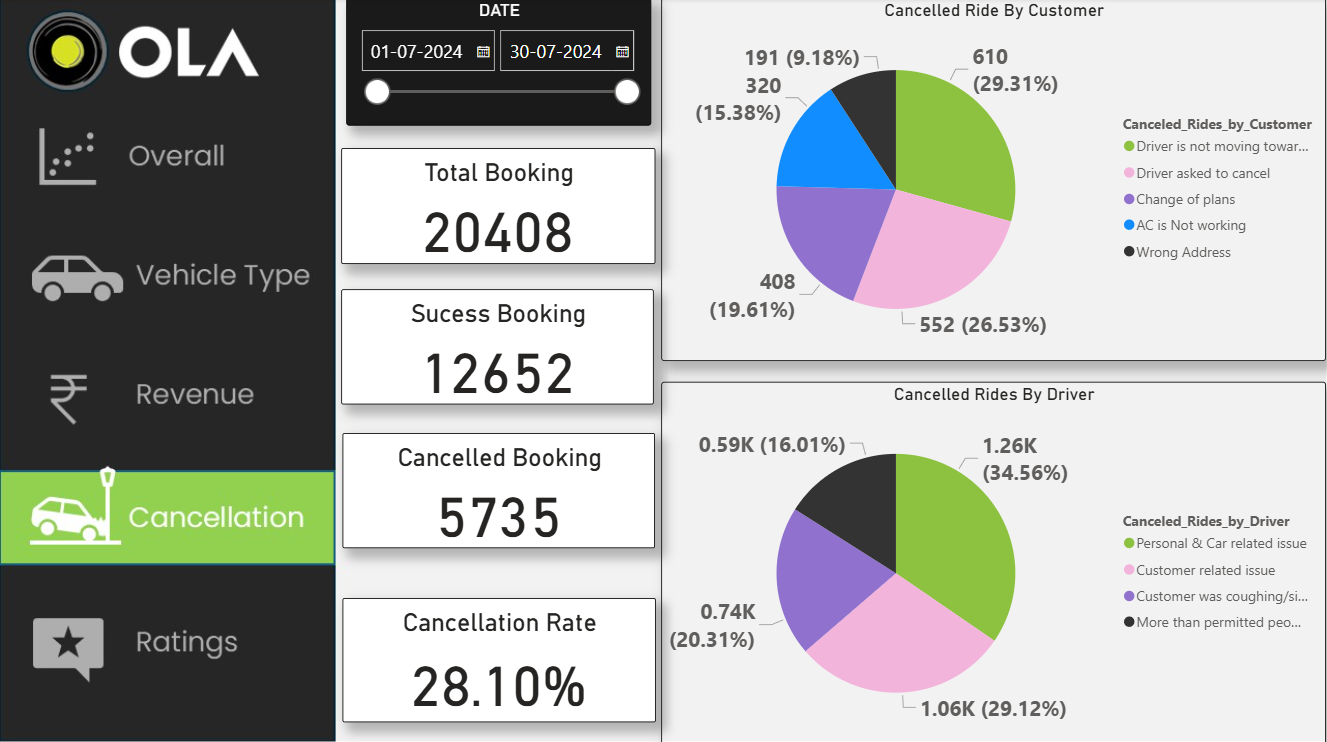

This screenshot's page, from the dashboard's own definition file:
{"tool":"powerbi","page":{"name":"Cancellation","canvas":[1280,720],"ordinal":3},"visuals":[{"type":"actionButton","box":[0,579.1,322.1,79.6],"z":0},{"type":"pieChart","title":"Cancelled Ride By Customer","fields":{"Category":["July.Canceled_Rides_by_Customer"],"Y":["CountNonNull(July.Canceled_Rides_by_Customer)"]},"box":[638.7,0,641.6,350.1],"z":1000},{"type":"pieChart","title":"Cancelled Rides By Driver","fields":{"Category":["July.Canceled_Rides_by_Driver"],"Y":["CountNonNull(July.Canceled_Rides_by_Driver)"]},"box":[638.7,370.6,641.6,350.1],"z":2000},{"type":"slicer","title":"DATE","fields":{"Values":["July.Date"]},"box":[334,0,294.4,123],"z":3000},{"type":"card","title":"Total Booking","fields":{"Values":["Measure Table.Total_Bookings"]},"box":[329.4,144.8,302.8,112.2],"z":4000},{"type":"card","title":"Sucess Booking","fields":{"Values":["Count(July.Booking_ID)"]},"box":[329.6,281.3,301.8,111.3],"z":5000},{"type":"card","title":"Cancelled Booking","fields":{"Values":["Measure Table.Cancelled_Booking"]},"box":[331.1,420.4,301.8,111.3],"z":6000},{"type":"card","title":"Cancellation Rate","fields":{"Values":["Measure Table.Cancelled_Percentage"]},"box":[330.6,578.5,302,120.2],"z":7000}]}

Visuals, with their boxes in screenshot pixels (x1, y1, x2, y2), scaled from the page's 1280x720 canvas onto the 1327x742 screenshot:
actionButton: rect(0, 597, 334, 679)
"Cancelled Ride By Customer" pieChart: rect(662, 0, 1326, 361)
"Cancelled Rides By Driver" pieChart: rect(662, 382, 1326, 741)
"DATE" slicer: rect(346, 0, 651, 127)
"Total Booking" card: rect(341, 149, 655, 265)
"Sucess Booking" card: rect(342, 290, 655, 405)
"Cancelled Booking" card: rect(343, 433, 656, 548)
"Cancellation Rate" card: rect(343, 596, 656, 720)
